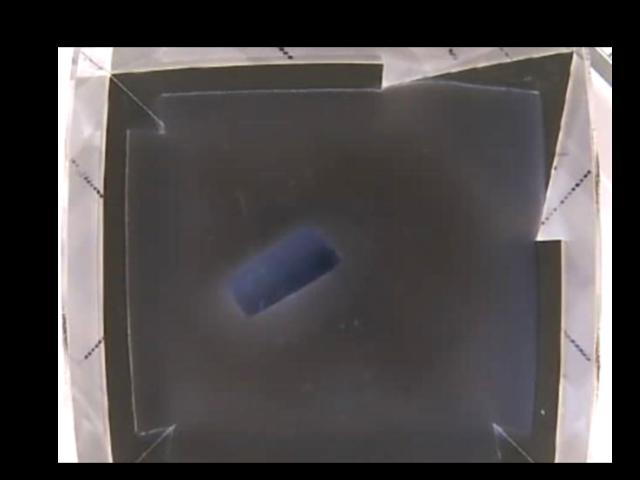Mooli: (227, 224, 338, 315)
